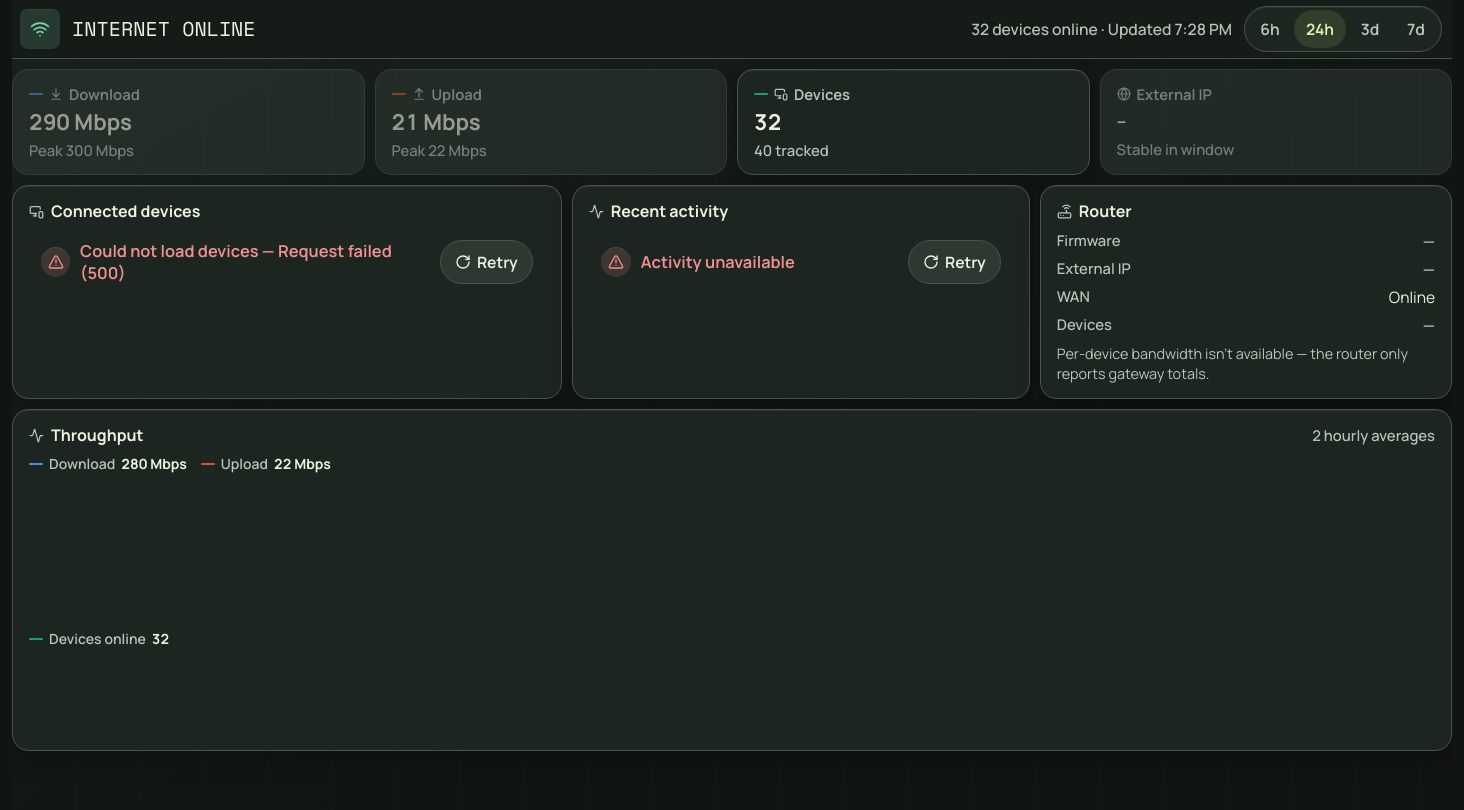
Test: NetworkView › offers a retry when the device list fails, and refetches on tap
Click the button "Retry" below "Connected devices" at (486, 262), box [440,240,533,284]
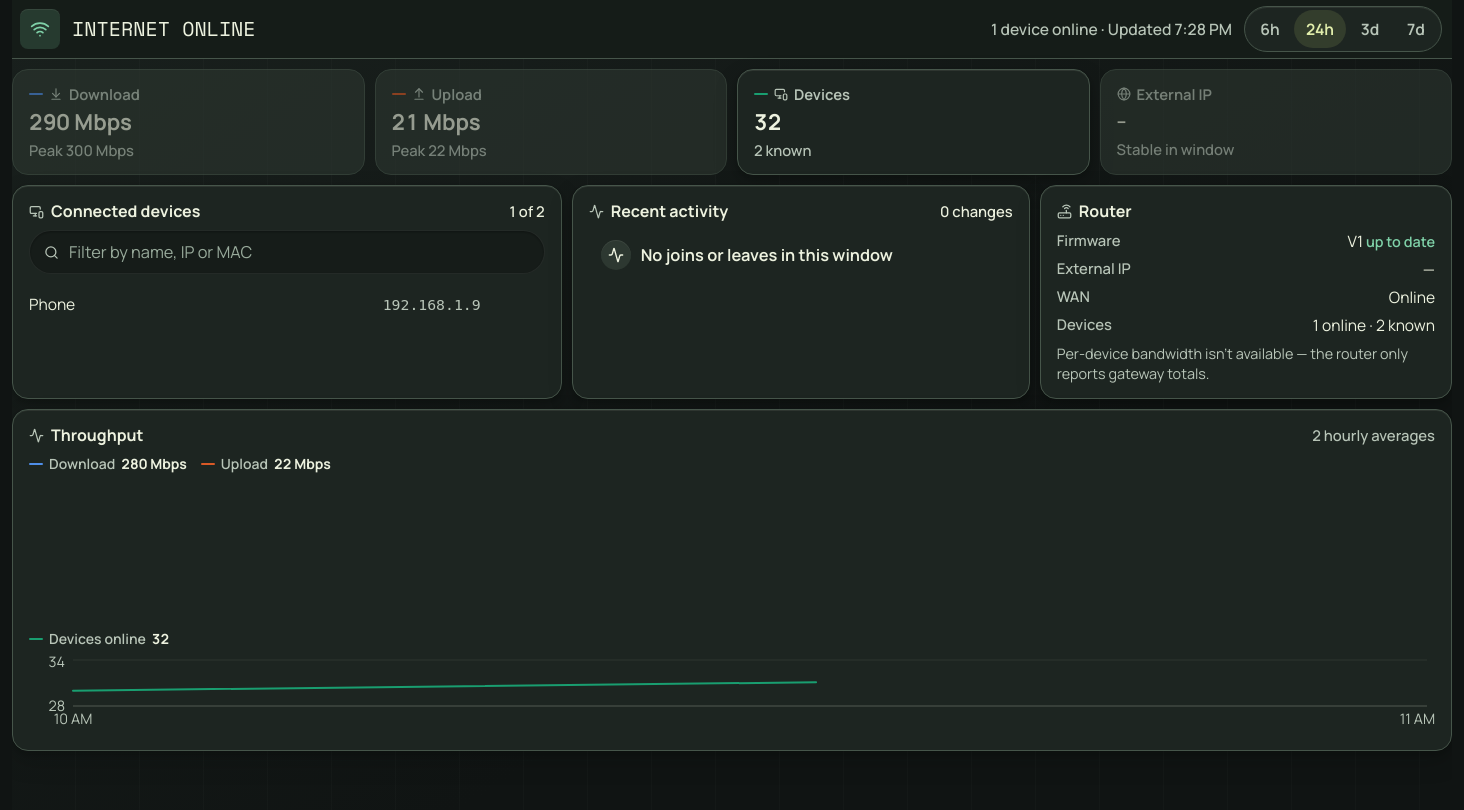
Result: the text "Phone" is shown at [29,293,75,315]
